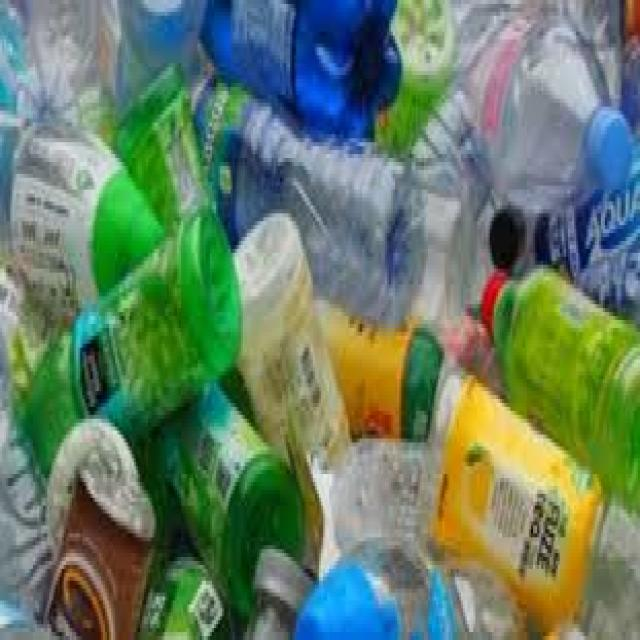plastic_bottle: (30, 148, 250, 583), (397, 338, 640, 640), (190, 46, 443, 332), (224, 172, 373, 596), (413, 1, 639, 222), (468, 221, 640, 482), (93, 59, 219, 227)
